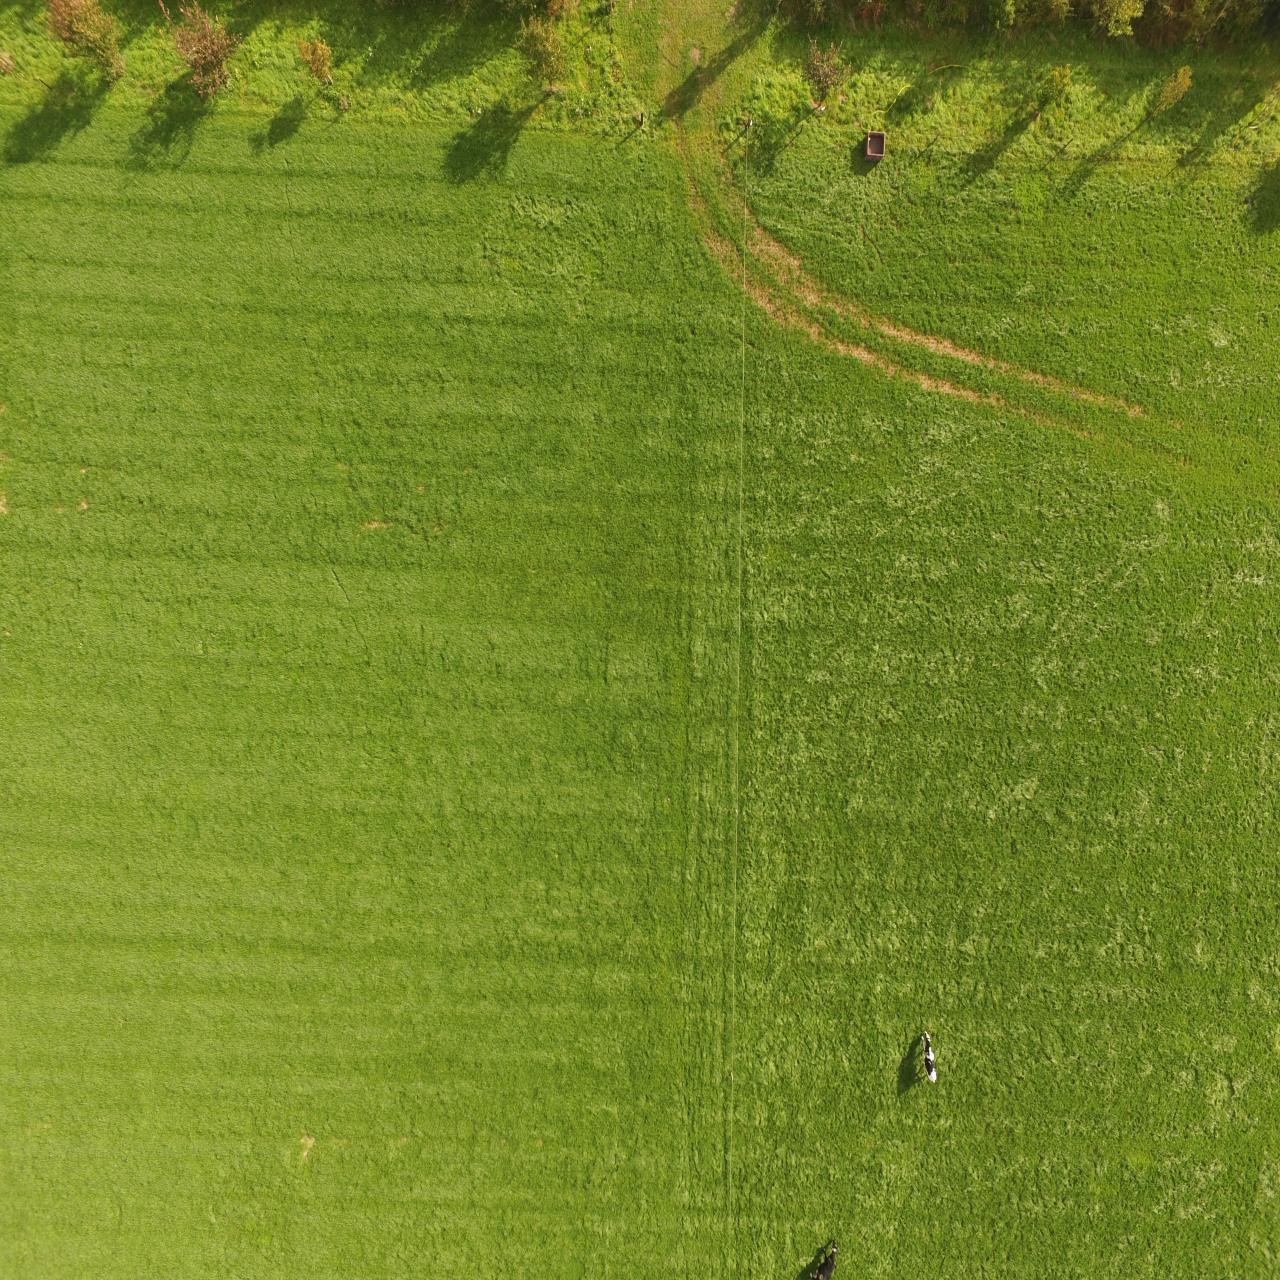cow: (810, 1235, 840, 1280), (919, 1024, 940, 1085)
